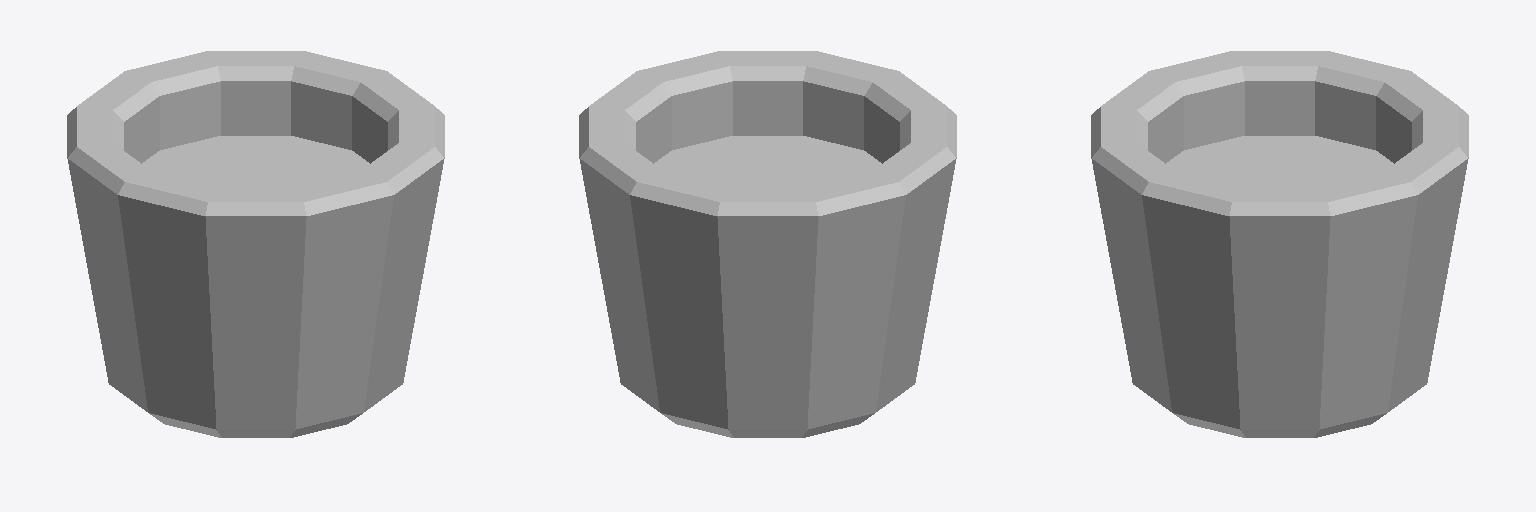
Rendered from pot_B_medium.obj.
The picture shows the model from 3 angles: view 1: azimuth 30°, elevation 25°; view 2: azimuth 150°, elevation 25°; view 3: azimuth 270°, elevation 25°; orthographic projection.
Parts seen in each view (by area): view 1: pot_B_medium; view 2: pot_B_medium; view 3: pot_B_medium.
Boxes of the visible parts, x1=… form: pot_B_medium: x1=67, y1=51, x2=444, y2=437; pot_B_medium: x1=579, y1=51, x2=956, y2=437; pot_B_medium: x1=1091, y1=51, x2=1468, y2=437.
Bounding box in the file's own units: 0.9904 × 0.75 × 0.9904.